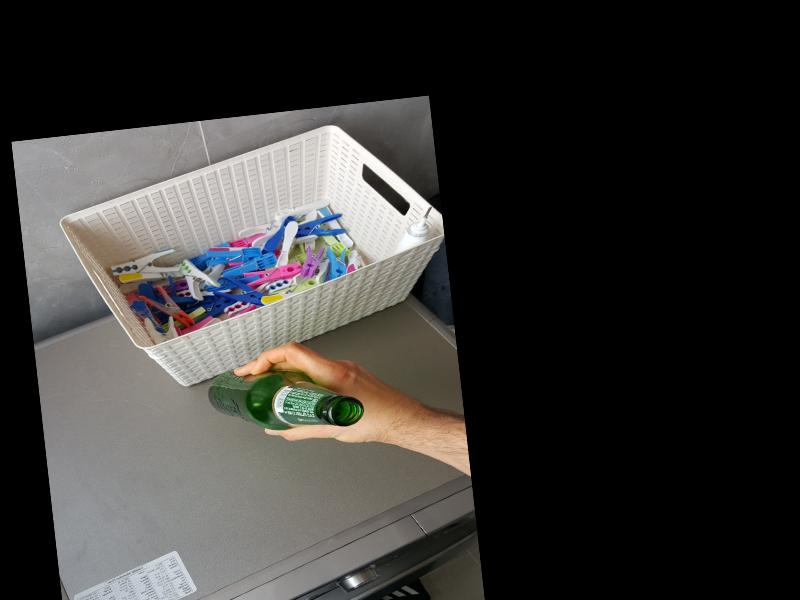Beer: (206, 353, 364, 441)
